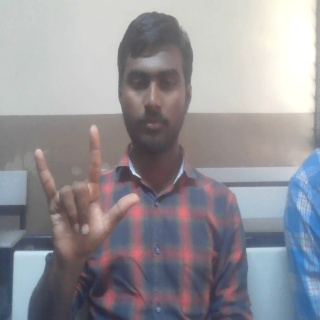Face: (114, 9, 194, 162)
I Love You: (28, 123, 144, 267)
